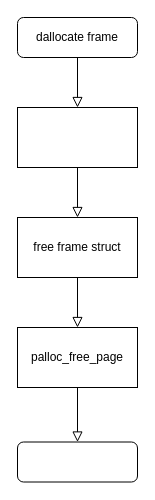
Image size: 155x500. Some labels were removed from this diagram. The shapes that lost their labels are listed below. From the top down, each one's box as (x1, y1, x2, y2) in pixels, then its label:
(16, 106, 138, 168): remove from list
(16, 441, 138, 482): return
